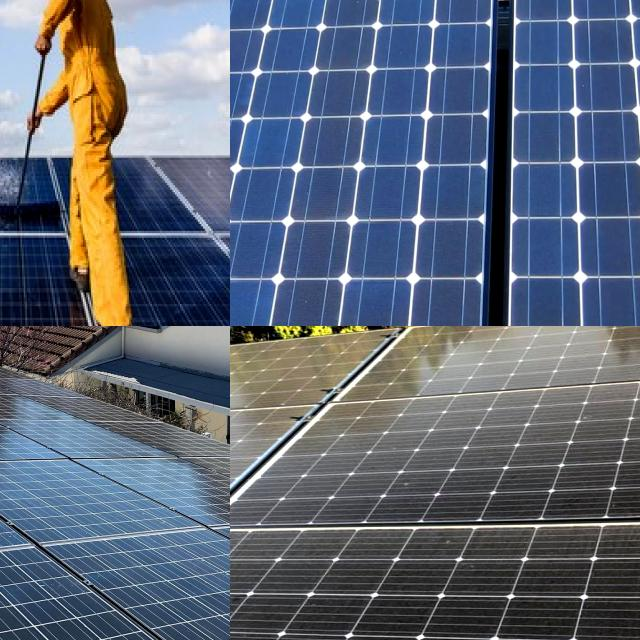crack: (268, 403, 640, 533), (306, 326, 640, 462), (334, 548, 640, 640), (0, 220, 136, 326), (0, 228, 109, 326), (282, 100, 380, 204), (344, 208, 443, 294), (501, 214, 605, 294), (0, 155, 71, 262), (272, 217, 369, 290), (358, 66, 462, 132), (230, 203, 303, 297), (294, 64, 386, 132), (230, 110, 320, 176), (411, 214, 485, 292), (505, 160, 586, 230), (230, 162, 306, 236), (500, 269, 595, 326), (512, 106, 589, 175), (399, 270, 488, 326), (424, 66, 502, 129), (271, 274, 349, 326), (258, 0, 335, 46), (278, 277, 342, 326), (230, 274, 286, 326), (322, 0, 397, 35), (230, 218, 269, 284), (230, 0, 285, 39), (230, 0, 261, 35)
